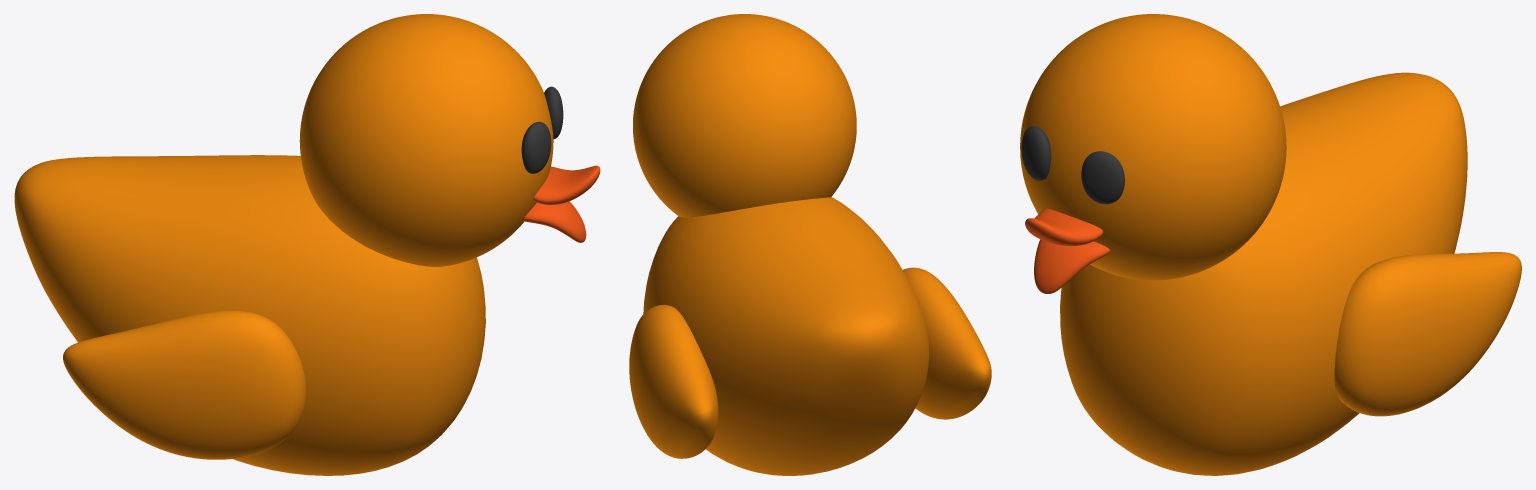
File: duck_example.glb
3 renders of one model, left to right at view 1: azimuth 30°, elevation 25°; view 2: azimuth 150°, elevation 25°; view 3: azimuth 270°, elevation 25°, orthographic. The views are drawn at different scales.
Parts seen in each view (by area): view 1: Cube, Sphere, Cube.001, Cube.004, Cube.005, Cube.002, Cube.003; view 2: Cube, Sphere, Cube.001; view 3: Cube, Sphere, Cube.001, Cube.005, Cube.004, Cube.003, Cube.002.
Part boxes in pixels (x1,y1,x2,y2): Cube: [14, 155, 485, 475]; Sphere: [299, 14, 553, 266]; Cube.001: [63, 310, 306, 459]; Cube.004: [533, 165, 600, 204]; Cube.005: [523, 201, 586, 242]; Cube.002: [521, 121, 551, 173]; Cube.003: [544, 86, 563, 139]; Cube: [643, 197, 929, 475]; Sphere: [633, 14, 856, 217]; Cube.001: [629, 267, 991, 458]; Cube: [1060, 72, 1467, 475]; Sphere: [1020, 14, 1286, 280]; Cube.001: [1334, 252, 1521, 416]; Cube.005: [1034, 239, 1110, 293]; Cube.004: [1025, 208, 1103, 246]; Cube.003: [1081, 151, 1124, 204]; Cube.002: [1021, 126, 1051, 180].
Size of the model in its own units: 6.77 by 6.53 by 6.38.
